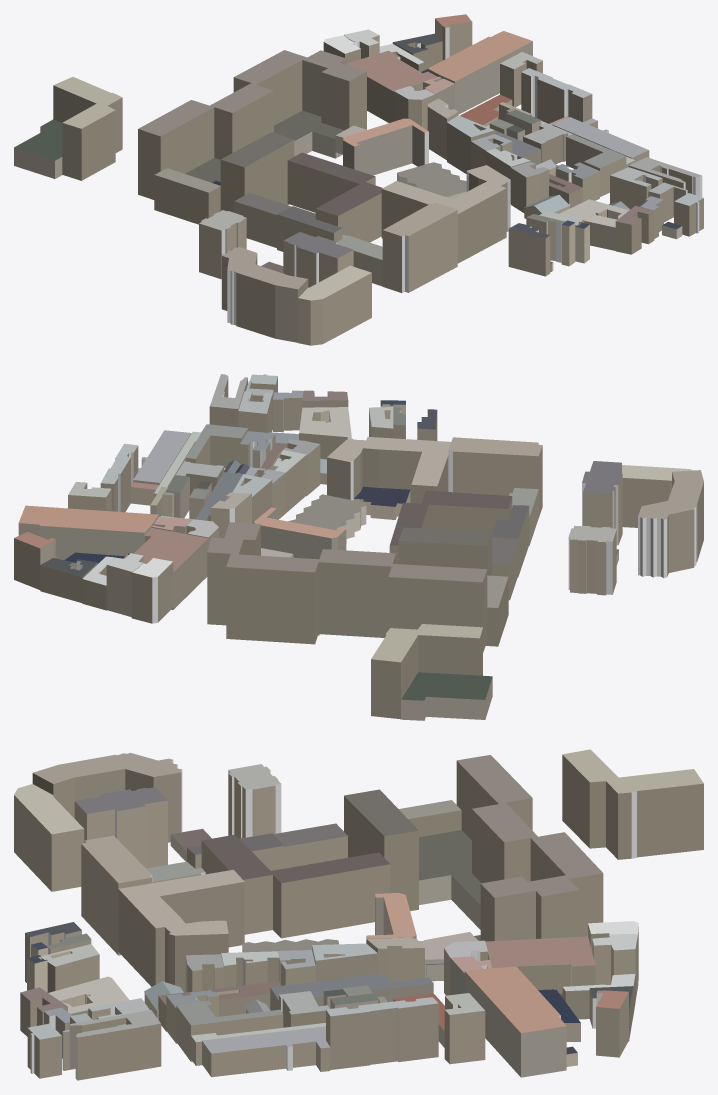
3 views of the same model, one above another, from view 1: azimuth 30°, elevation 25°; view 2: azimuth 150°, elevation 25°; view 3: azimuth 270°, elevation 25° (orthographic). The views are drawn at different scales.
Parts seen in each view (by area): view 1: tuile; view 2: tuile; view 3: tuile.
Boxes of the visible parts, <box> form: tuile: <box>14,14,703,345</box>; tuile: <box>14,374,703,720</box>; tuile: <box>14,749,703,1080</box>.
Size of the model in its own units: 278 by 43.99 by 278.
